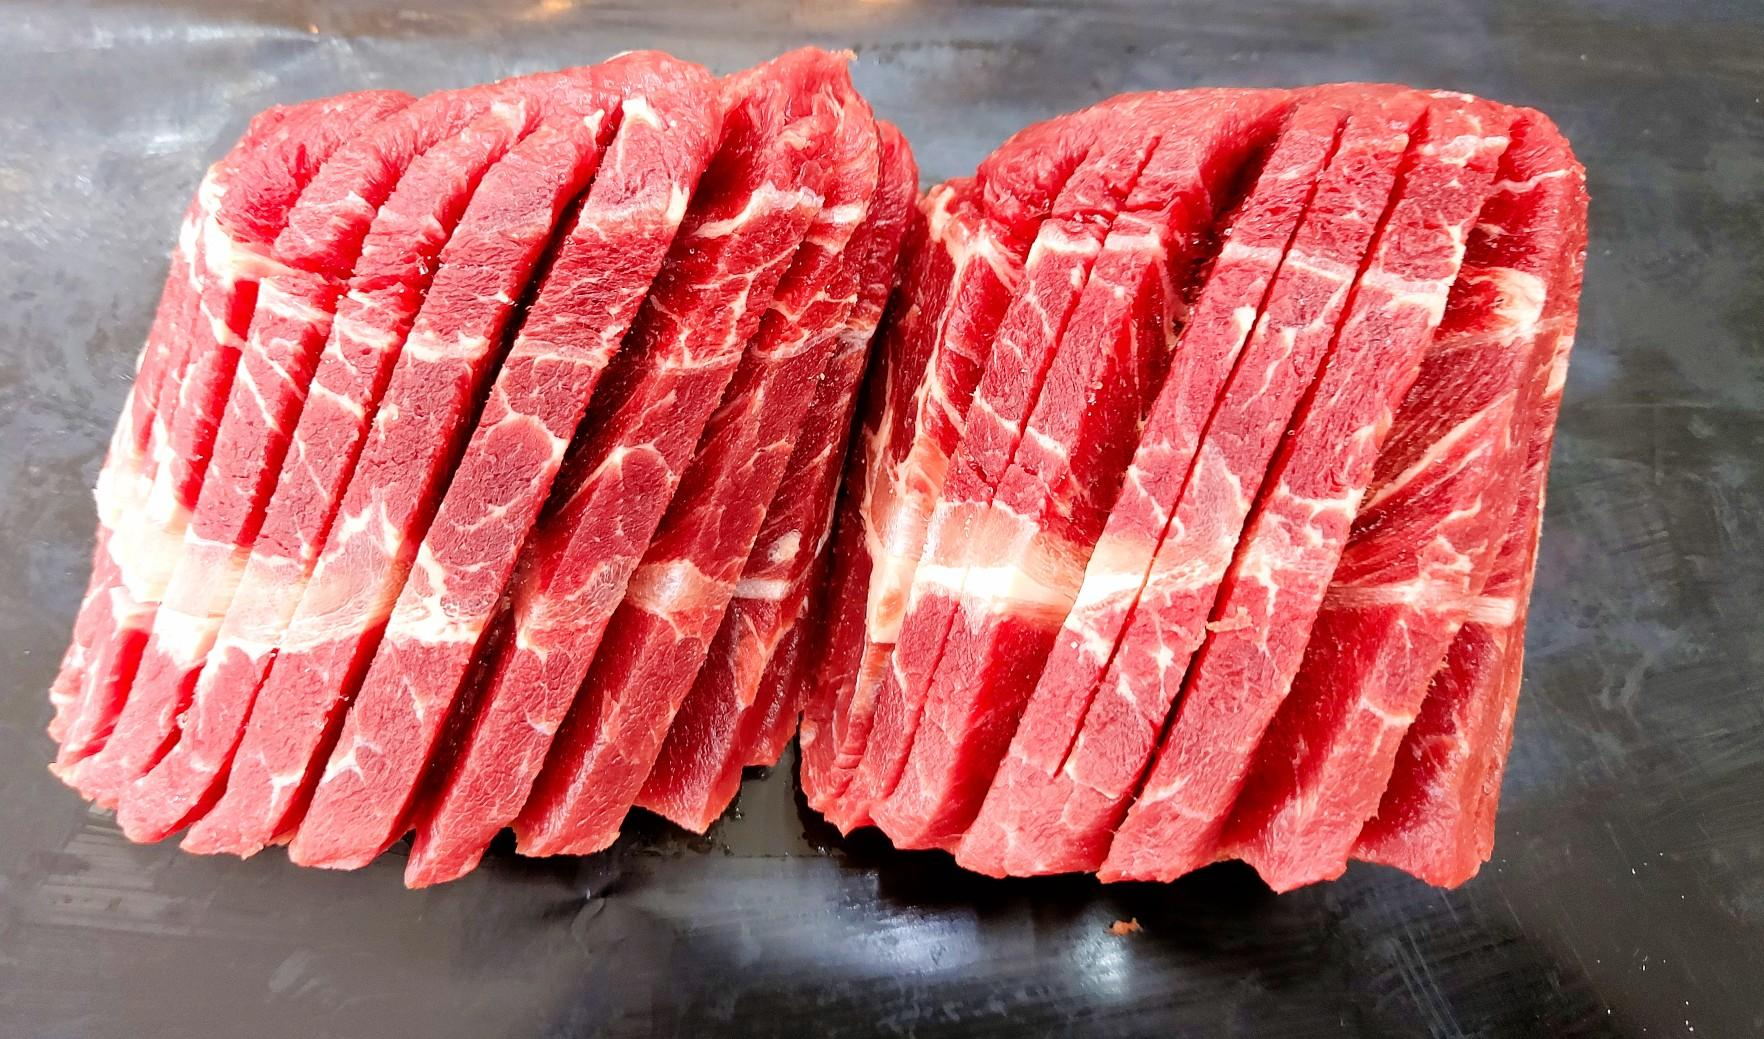beef: (466, 333, 1764, 1039), (1019, 365, 1764, 1039)
